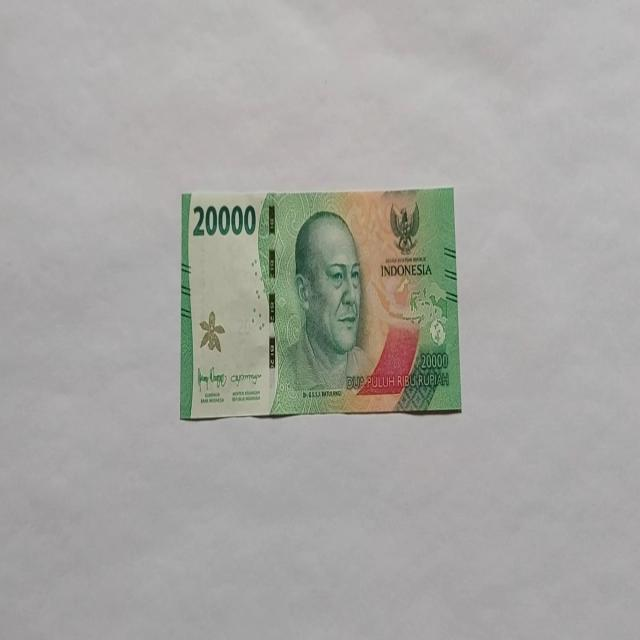dua puluh ribu rupiah: (178, 186, 462, 420)
